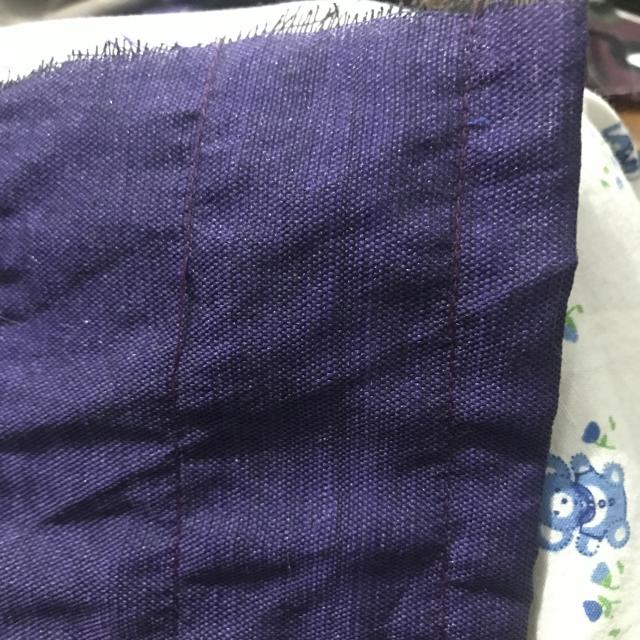skip: (150, 232, 209, 391)
